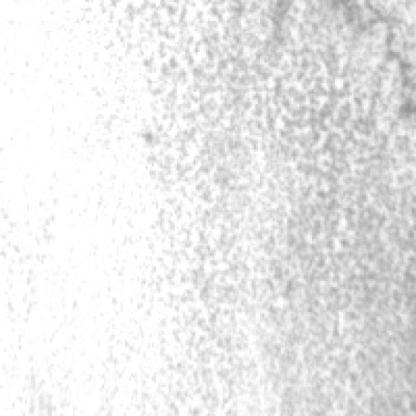pitted_surface: (116, 0, 412, 412)
